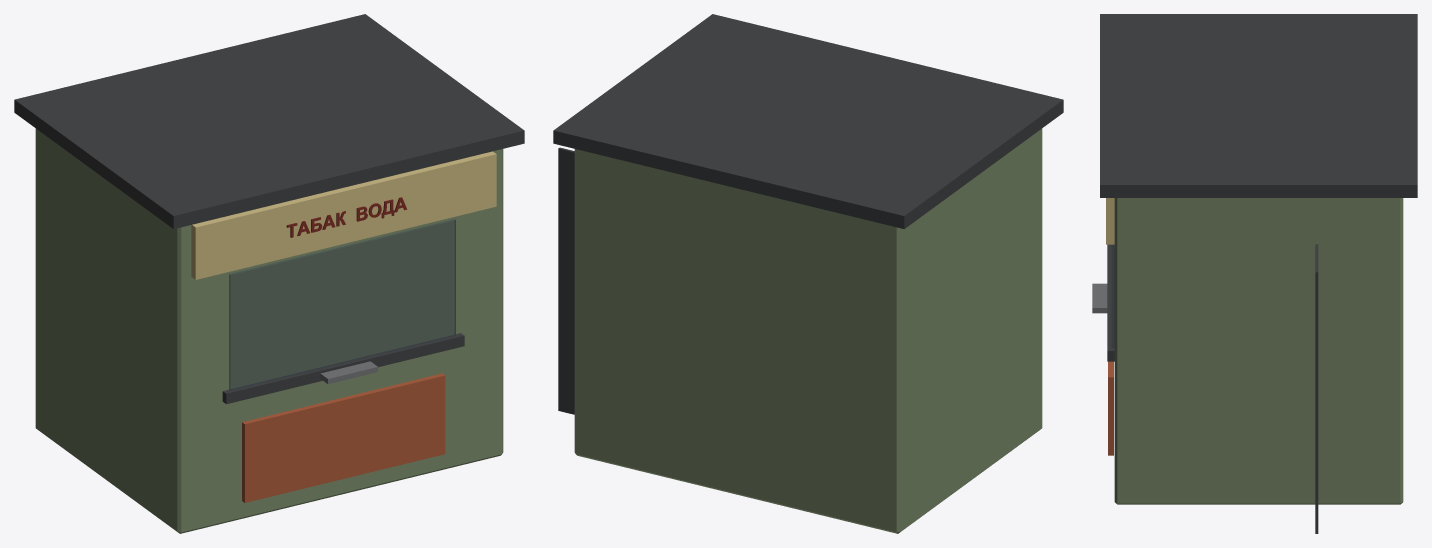
File: kiosk.glb
3 views of the same model, side by side, from view 1: azimuth 30°, elevation 25°; view 2: azimuth 150°, elevation 25°; view 3: azimuth 270°, elevation 25° (orthographic).
Parts seen in each view (by area): view 1: Kiosk; view 2: Kiosk; view 3: Kiosk.
Boxes of the visible parts, left/top/right/bottom form: Kiosk: left=14, top=14, right=524, bottom=533; Kiosk: left=553, top=14, right=1063, bottom=533; Kiosk: left=1092, top=14, right=1417, bottom=533.
Bounding box in the file's own units: 3.16 × 2.5 × 2.26.
